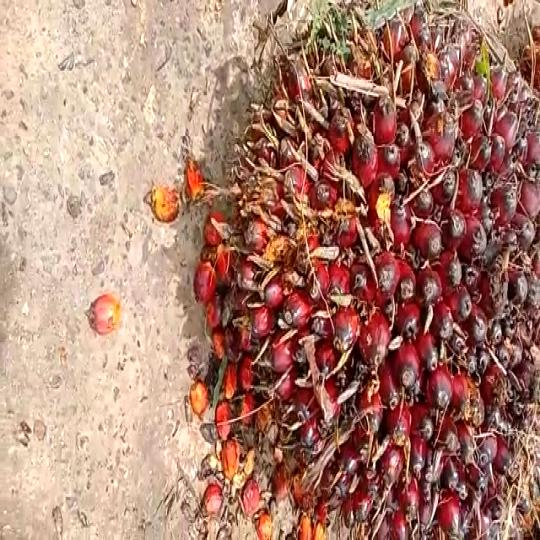kurang masak: (232, 0, 540, 540)
